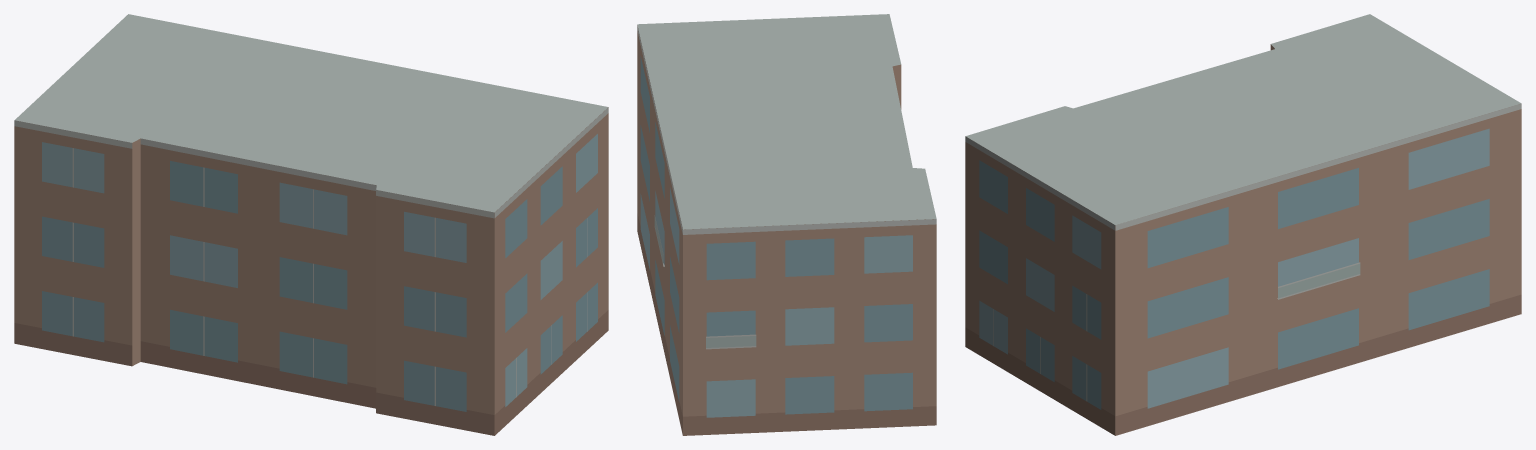
File: survey-upis-33021389.glb
3 renders of one model, left to right at view 1: azimuth 30°, elevation 25°; view 2: azimuth 150°, elevation 25°; view 3: azimuth 270°, elevation 25°, orthographic. The views are drawn at different scales.
Visible parts, largest first — view 1: survey-upis-33021389.tmp; view 2: survey-upis-33021389.tmp; view 3: survey-upis-33021389.tmp.
Boxes of the visible parts, x1,y1,x2,y2 form: survey-upis-33021389.tmp: (14,14,608,435); survey-upis-33021389.tmp: (637,14,936,435); survey-upis-33021389.tmp: (965,14,1521,435).
Size of the model in its own units: 19.68 by 9.15 by 21.9.
